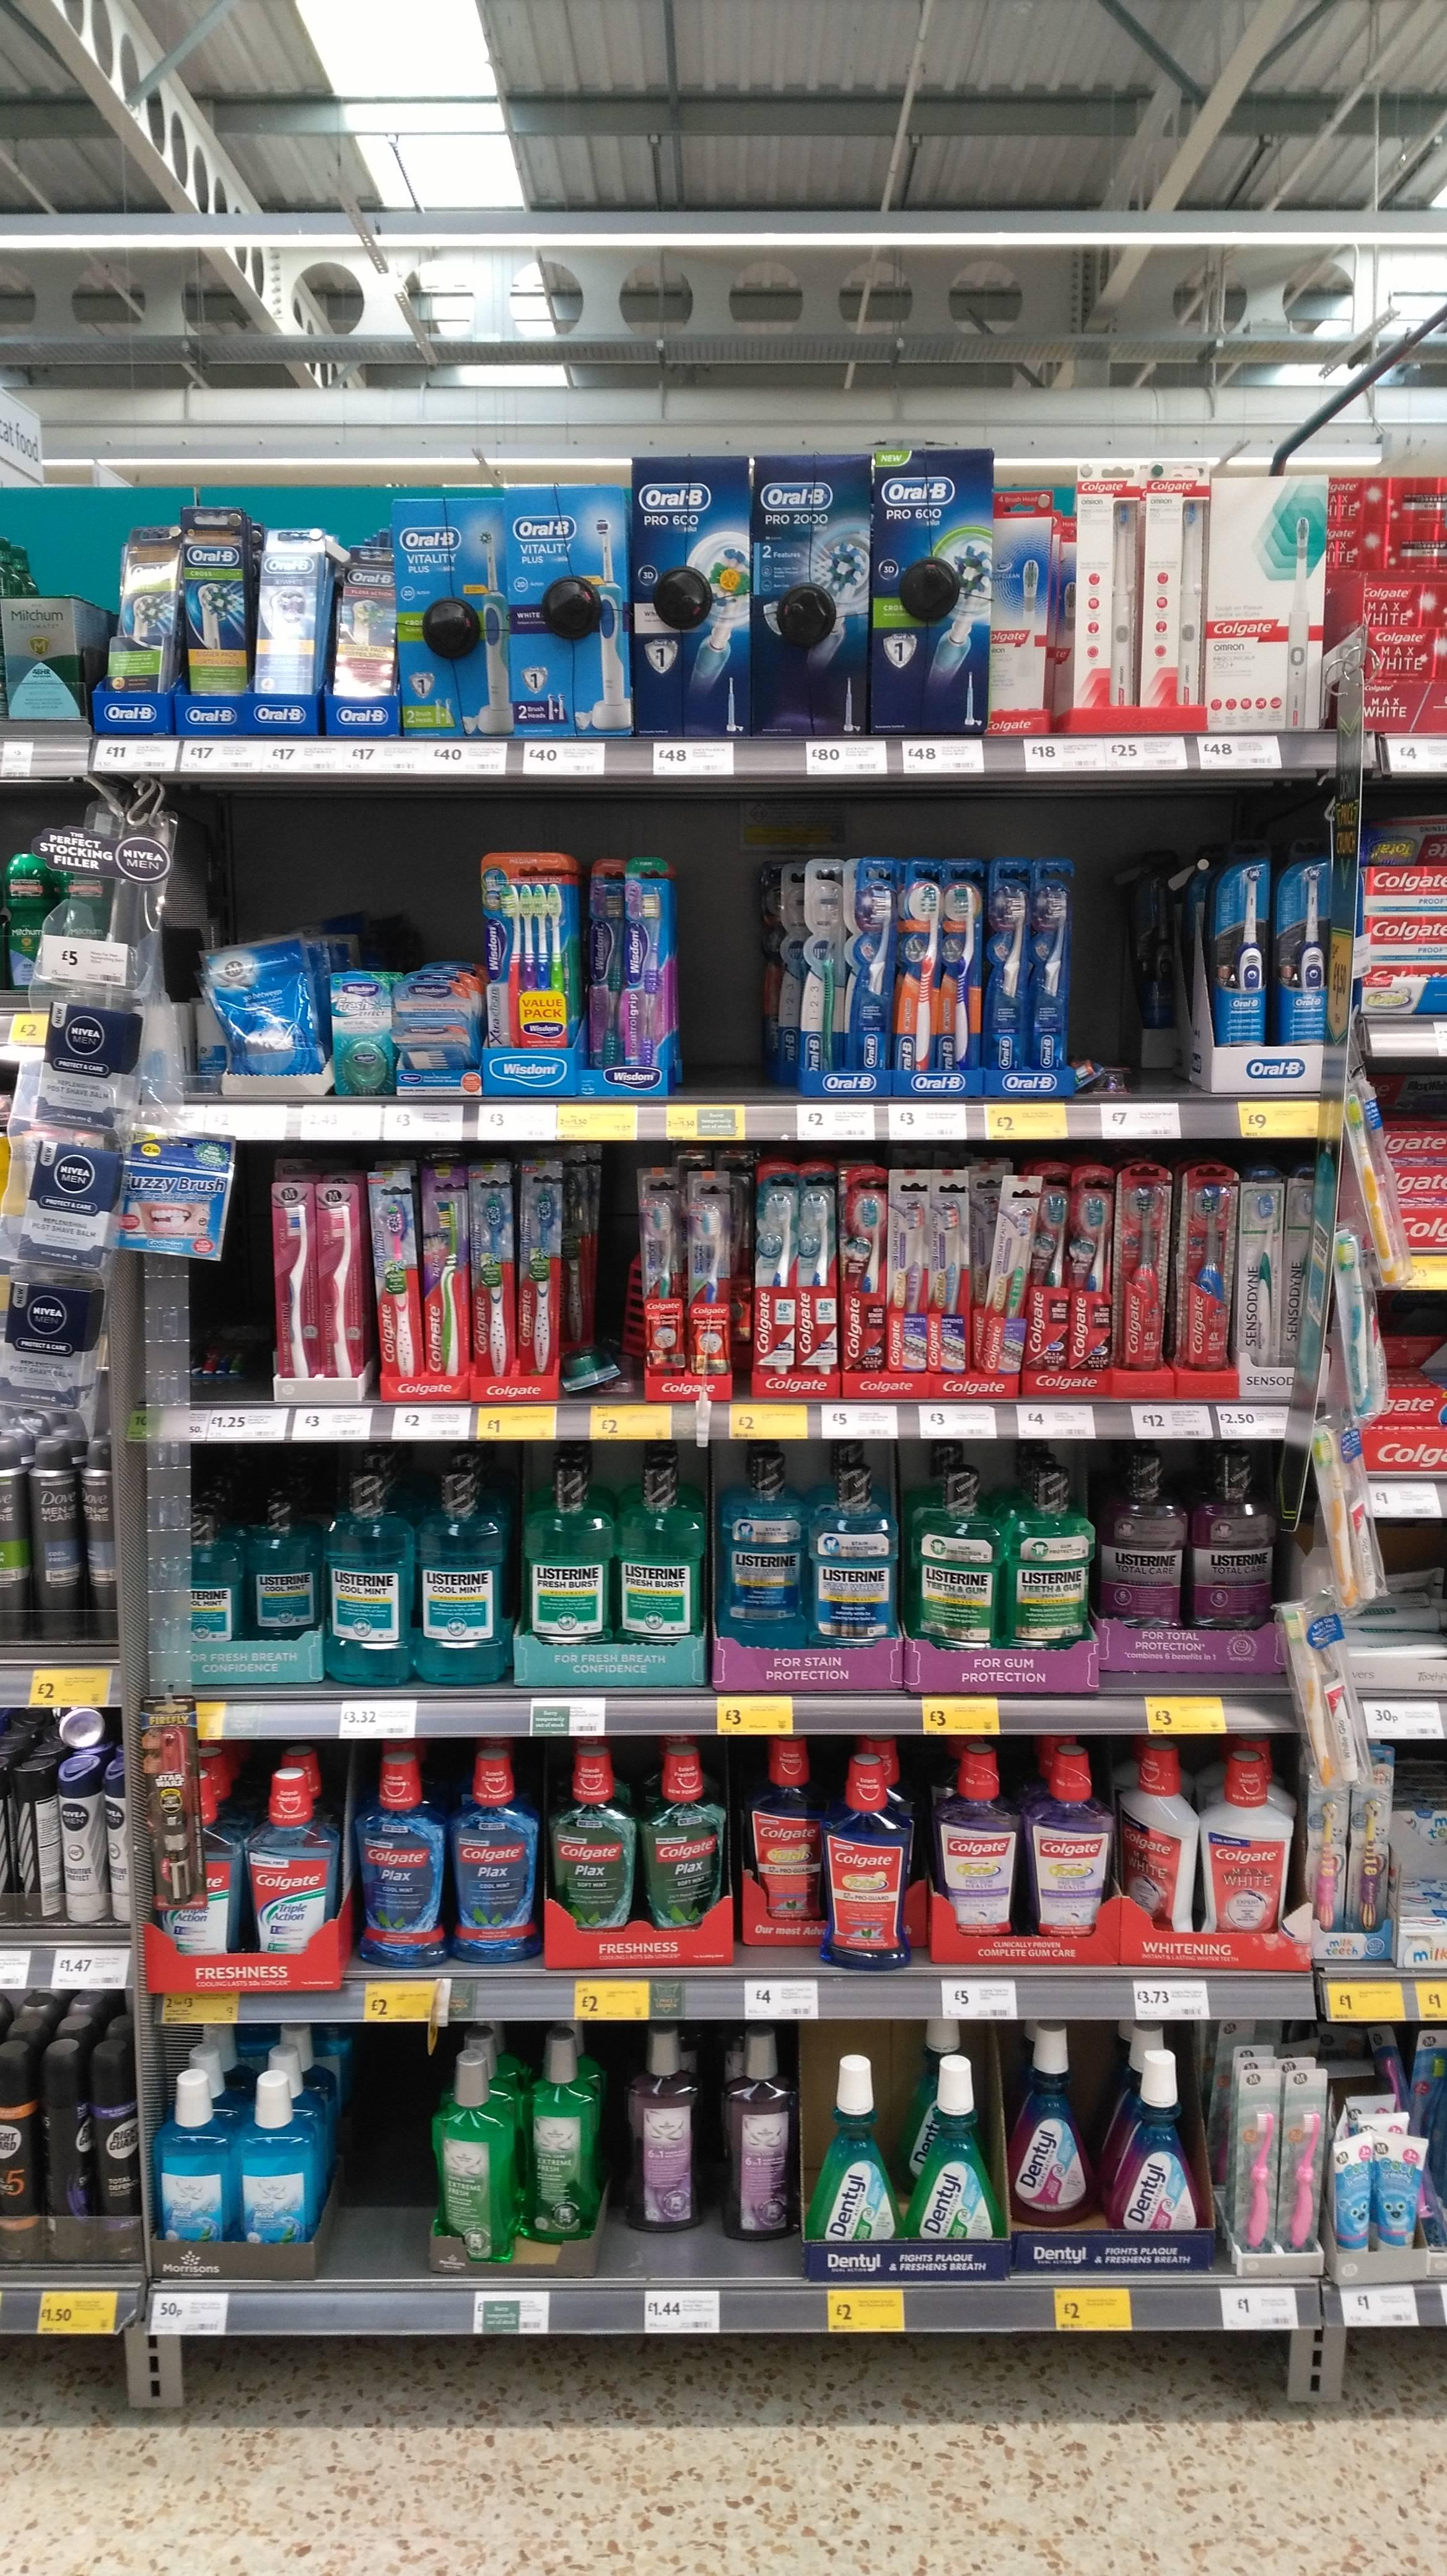Misplacement: (621, 2033, 803, 2277)
Out-of-stock: (674, 856, 794, 1095)
